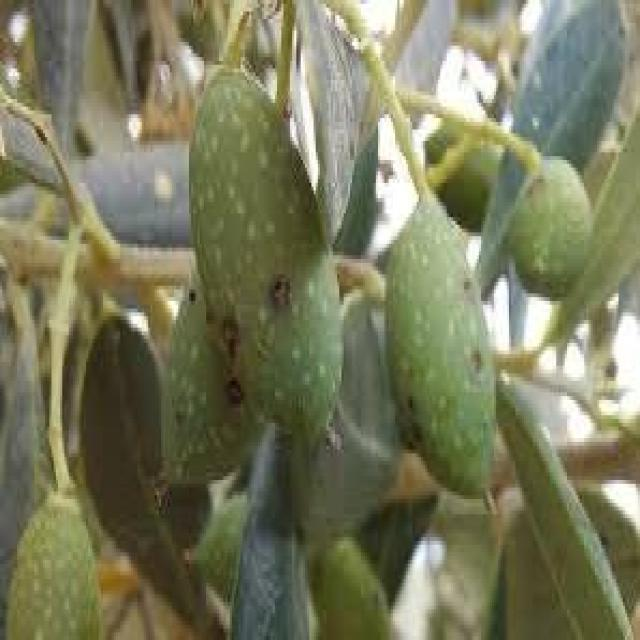Olive Fruit Fly: (188, 61, 339, 438), (384, 194, 494, 504)
